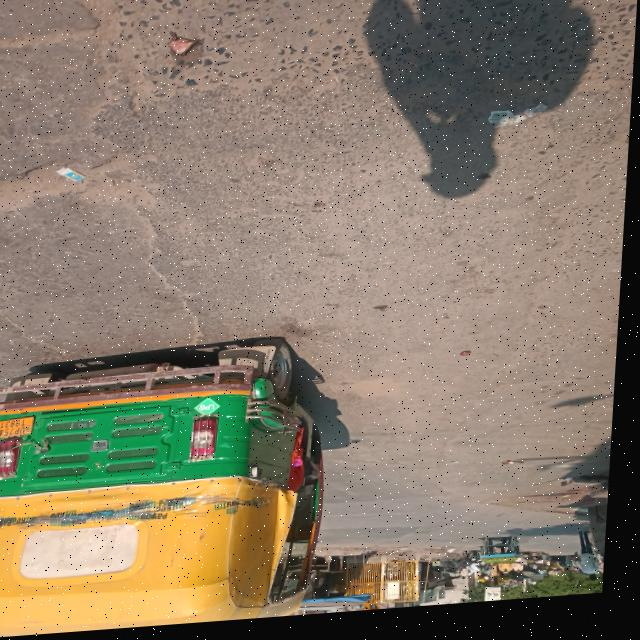plate: (0, 413, 40, 440)
